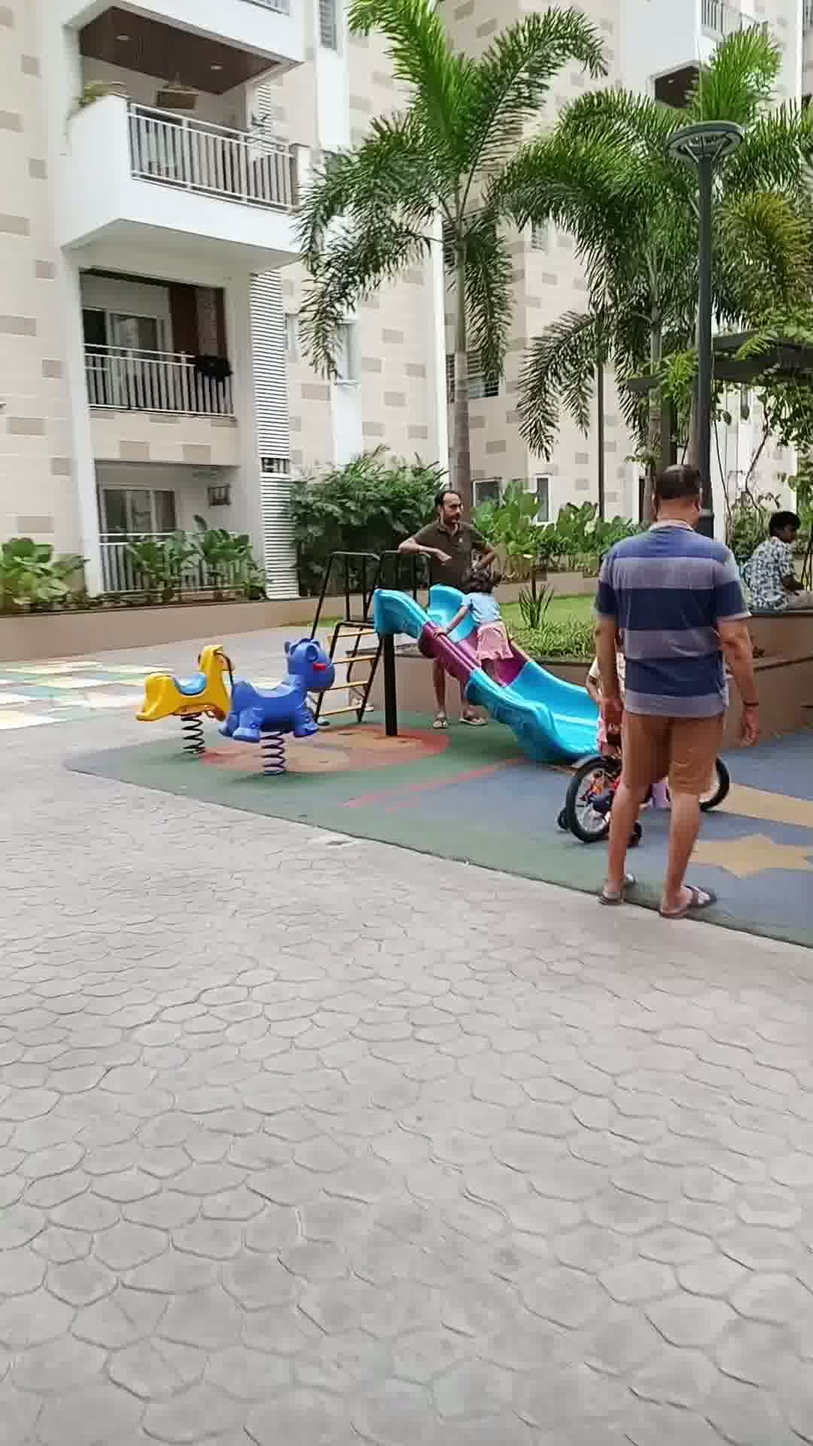bicycle: (521, 723, 751, 837)
person: (583, 447, 771, 959), (395, 464, 475, 740), (743, 490, 811, 638), (452, 558, 521, 695)
tree: (293, 0, 560, 561), (575, 37, 813, 532)
